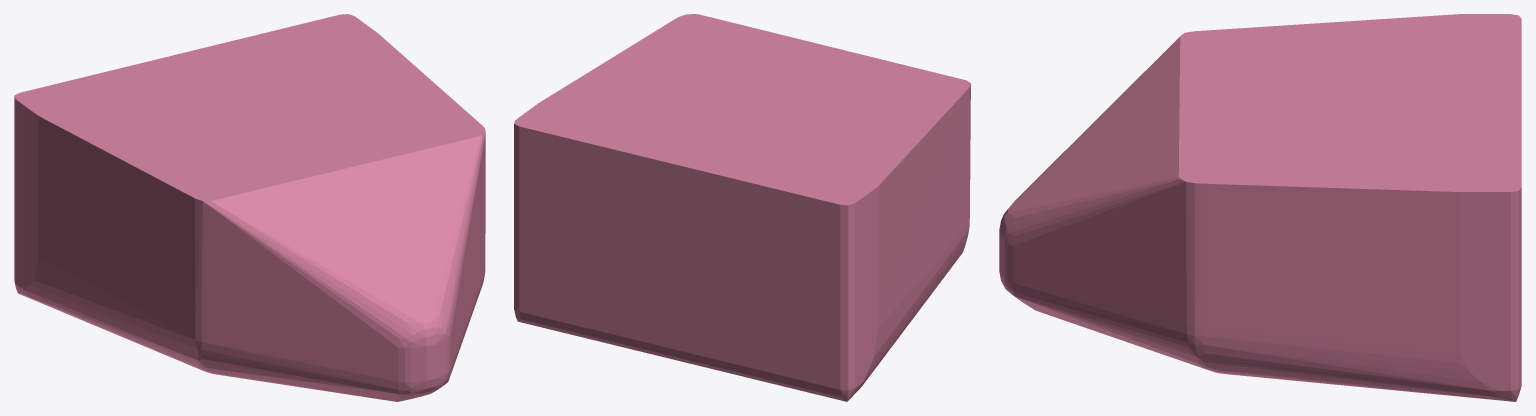
The model's file is left_palm_part_24.obj.
3 renders of one model, left to right at view 1: azimuth 30°, elevation 25°; view 2: azimuth 150°, elevation 25°; view 3: azimuth 270°, elevation 25°, orthographic. The views are drawn at different scales.
Bounding box in the file's own units: 21.65 × 12.05 × 26.83.
